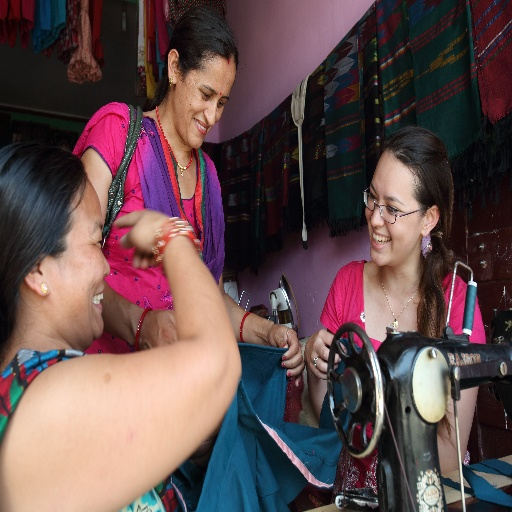hand: (112, 210, 168, 268), (266, 321, 305, 388), (304, 326, 350, 381), (137, 309, 180, 348)
